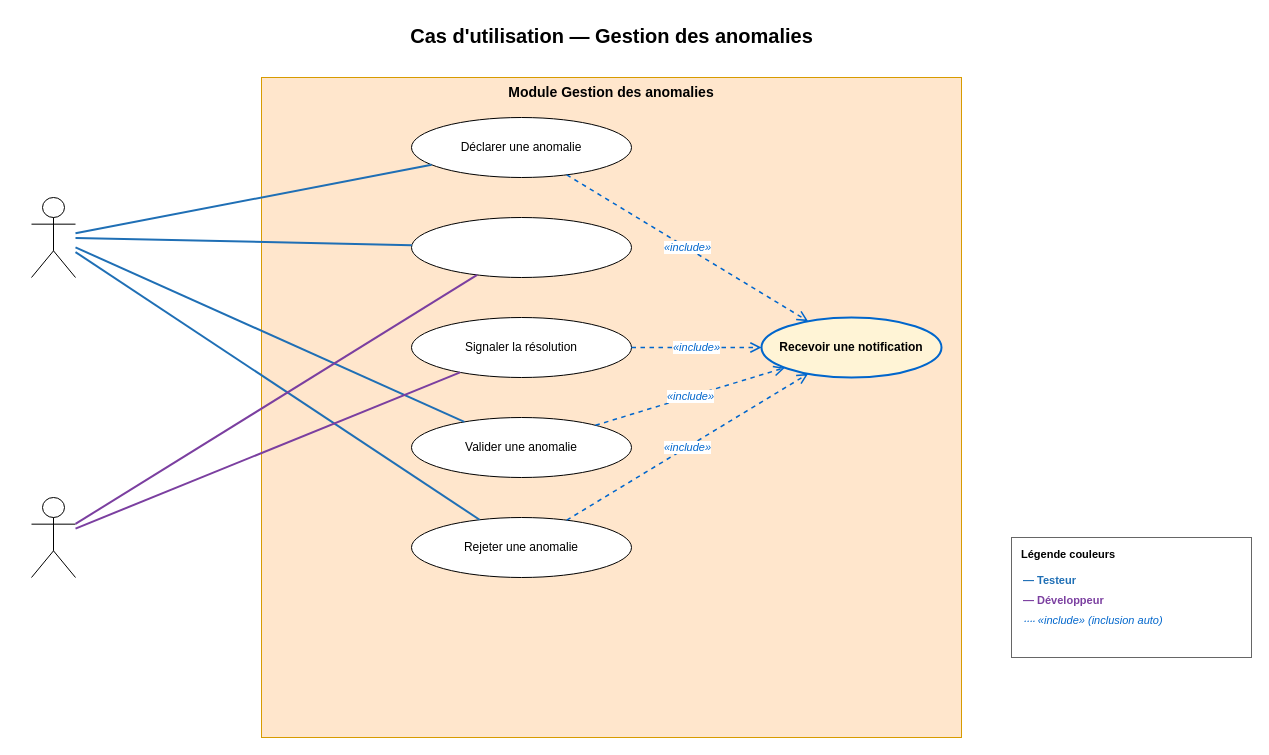
This 1269x755 diagram has some shape labels left out. The shapes that lost their labels are listed below. From the top down, each one's centre as x and y in pixels, then its label:
At point 53,237: "Testeur".
At point 521,247: "Consulter mes anomalies".
At point 53,537: "Développeur".
